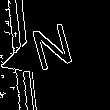N_S: (30, 20, 81, 80)
